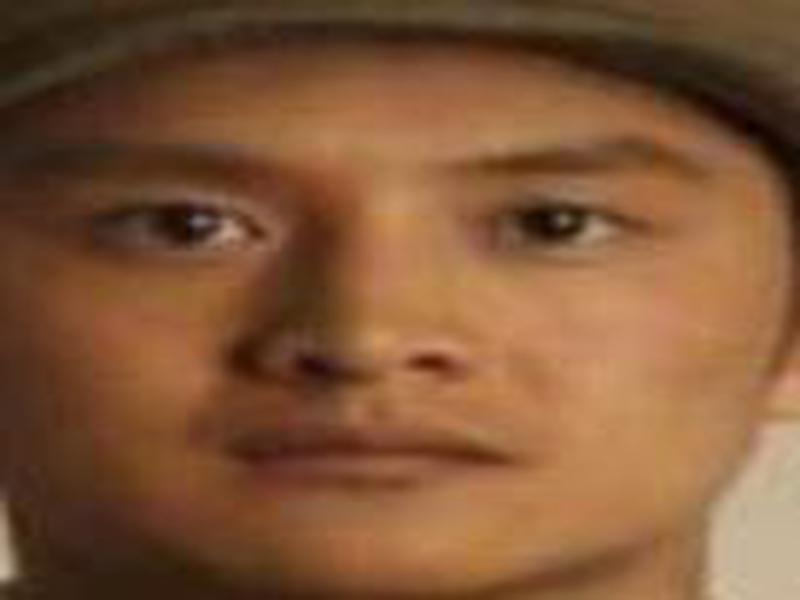without_mask: (2, 92, 791, 600)
